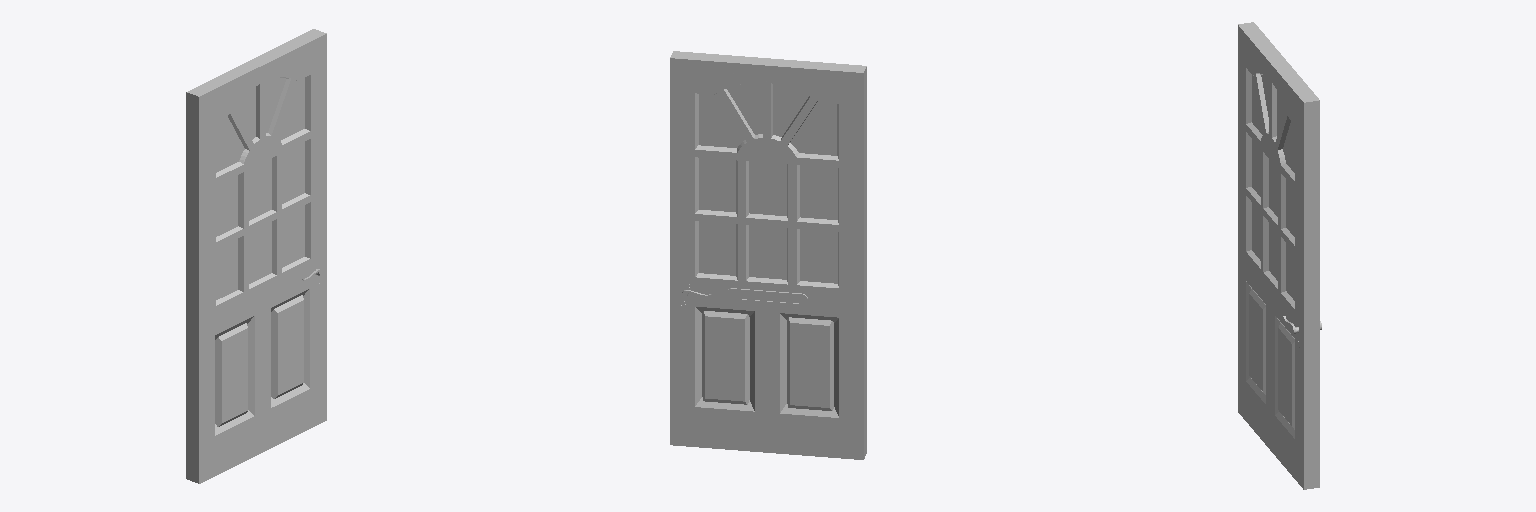
The model's file is door2_000007.obj.
3 renders of one model, left to right at view 1: azimuth 30°, elevation 25°; view 2: azimuth 150°, elevation 25°; view 3: azimuth 270°, elevation 25°, orthographic.
Parts seen in each view (by area): view 1: Door.000_Door.004; view 2: Door.000_Door.004; view 3: Door.000_Door.004.
Part boxes in pixels (bbox=[...]): Door.000_Door.004: bbox=[186, 29, 326, 483]; Door.000_Door.004: bbox=[670, 51, 866, 459]; Door.000_Door.004: bbox=[1238, 22, 1321, 489].
Bounding box in the file's own units: 0.7183 × 1.6 × 0.3181.